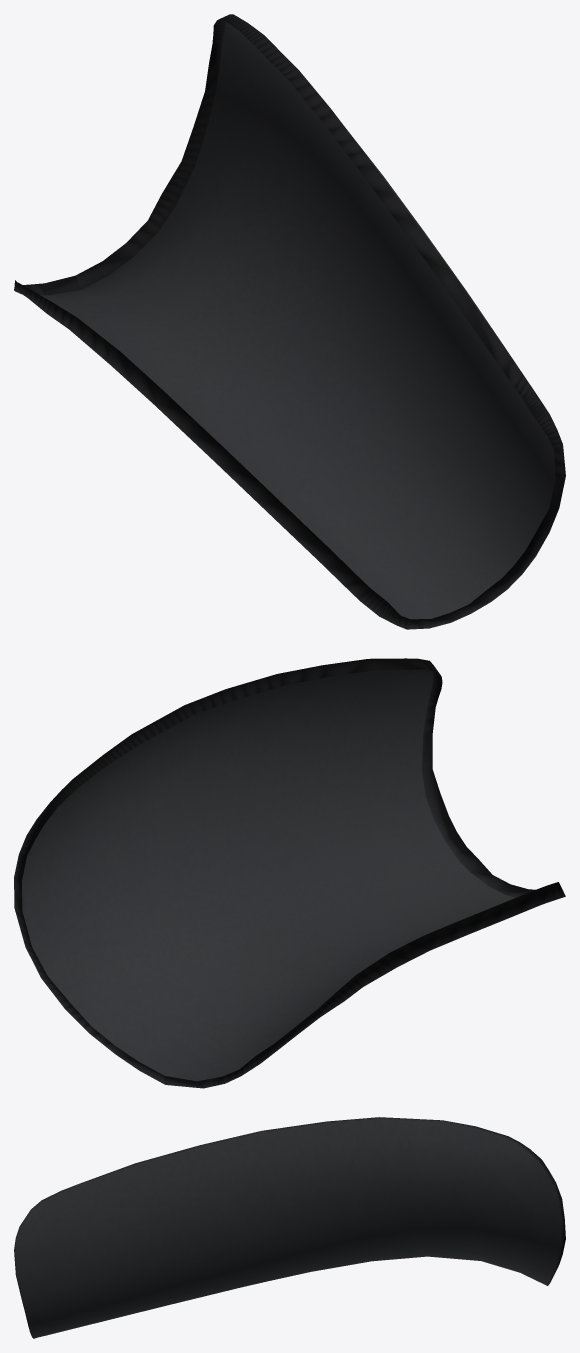
Rendered from gripsqueeze.obj.
3 views of the same model, one above another, from view 1: azimuth 30°, elevation 25°; view 2: azimuth 150°, elevation 25°; view 3: azimuth 270°, elevation 25° (orthographic). The views are drawn at different scales.
Visible parts, largest first — view 1: l_grip_squeeze; view 2: l_grip_squeeze; view 3: l_grip_squeeze.
Boxes of the visible parts, x1,y1,x2,y2 form: l_grip_squeeze: [14, 14, 565, 629]; l_grip_squeeze: [14, 658, 565, 1088]; l_grip_squeeze: [14, 1117, 565, 1338].
Size of the model in its own units: 0.0316 by 0.0414 by 0.083.
Materials: 1 (1 with a texture image).
